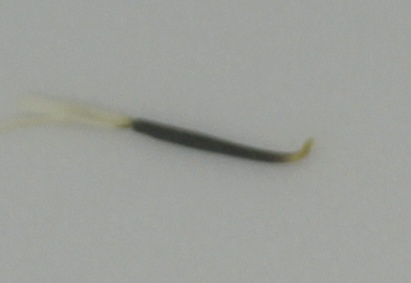เมล็ดดีเรียวยาว: (12, 88, 323, 167)
